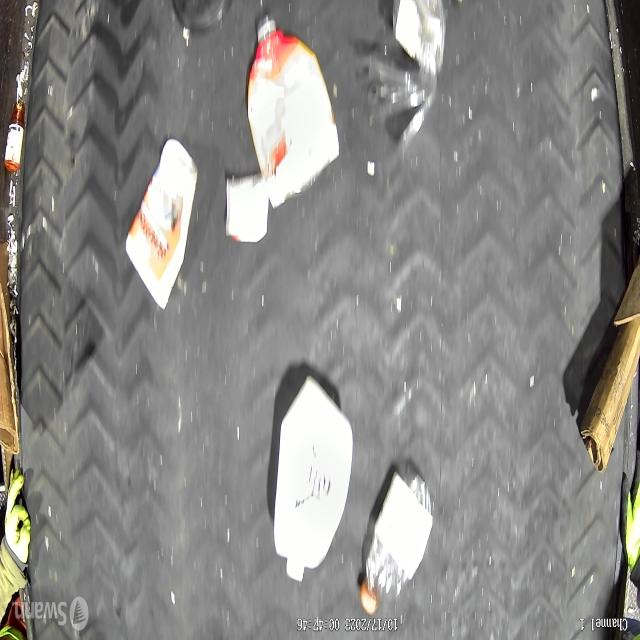milk_jug: (273, 376, 354, 584)
plastic_bottle: (358, 469, 434, 614)
